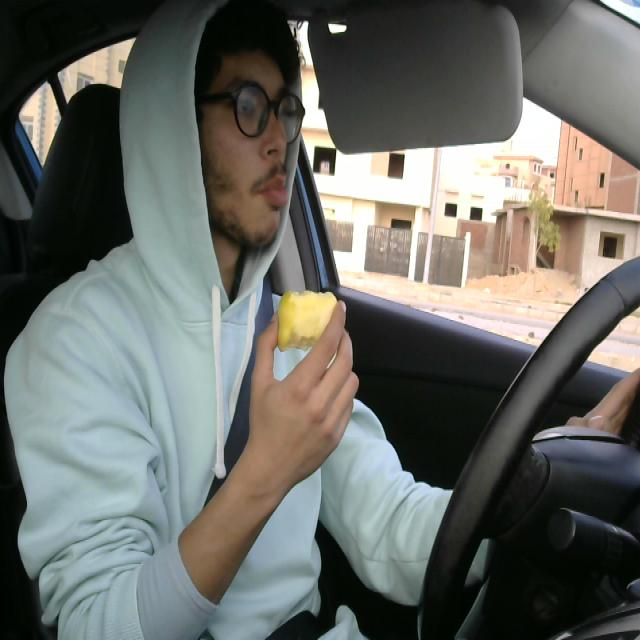eating: (268, 284, 358, 355)
